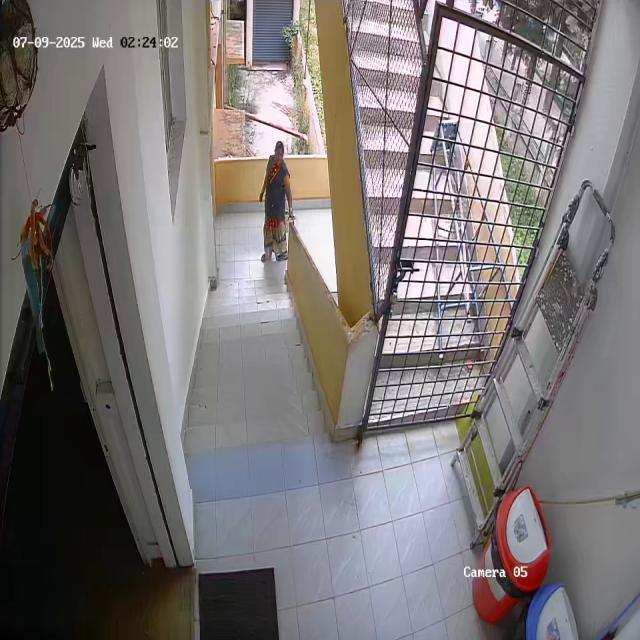person: (259, 140, 294, 261)
